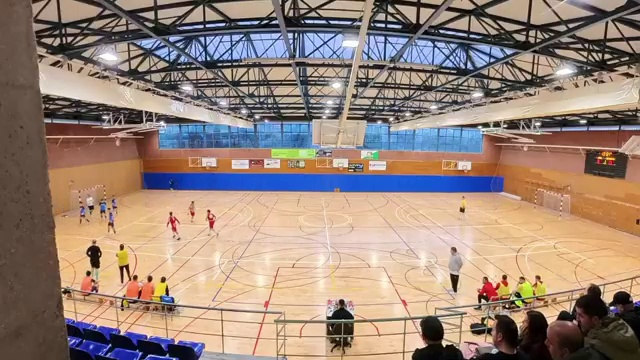players blue shirt: (108, 208, 115, 233), (99, 199, 106, 218), (80, 197, 85, 223), (112, 198, 117, 208)
players red shirt: (166, 213, 179, 239), (207, 210, 216, 234), (189, 202, 194, 221)
